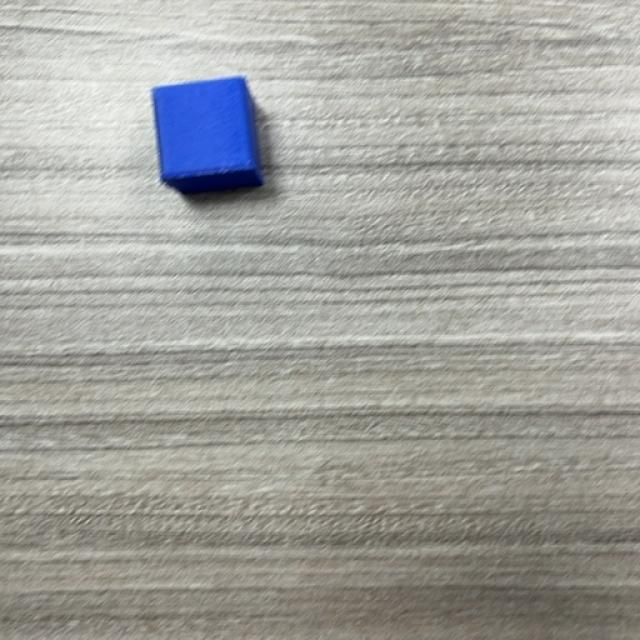Azul: (151, 76, 265, 196)
